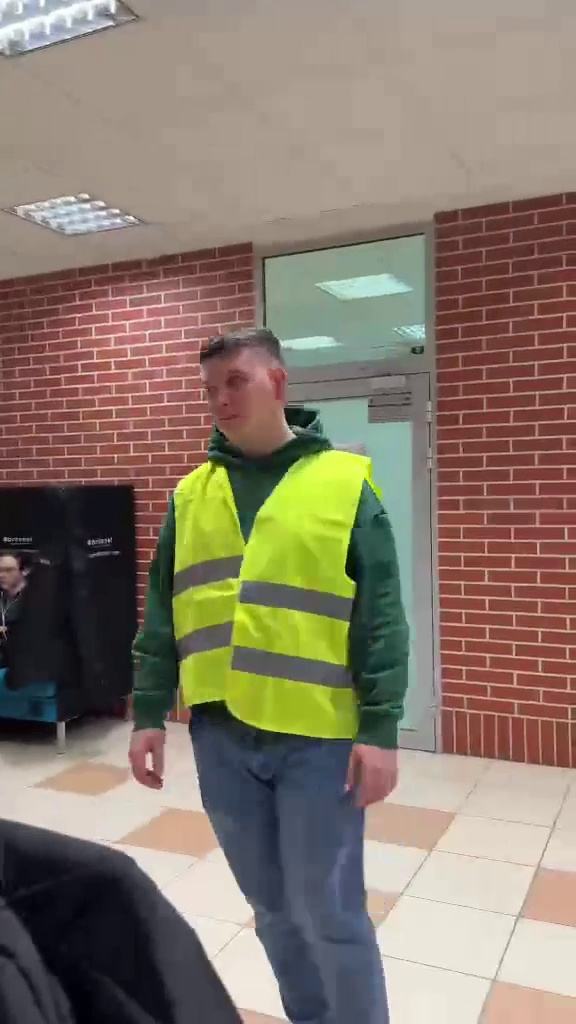vest: (123, 328, 408, 1012)
